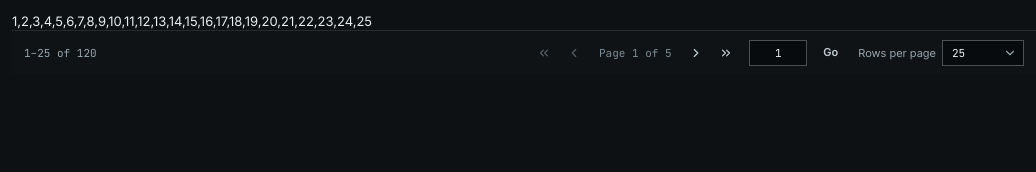
it: pagination footer › shows x–y of z, disables edges and steps through pages
Expected: the text "1–25 of 120" is shown, [24,44,97,62]
Expected: the text "Page 1 of 5" is shown, [599,46,672,60]
What coordinates should you click on to do the following:
click the button named "Next page"
I would click on:
 (696, 52)
Its box is [683,40,709,66].
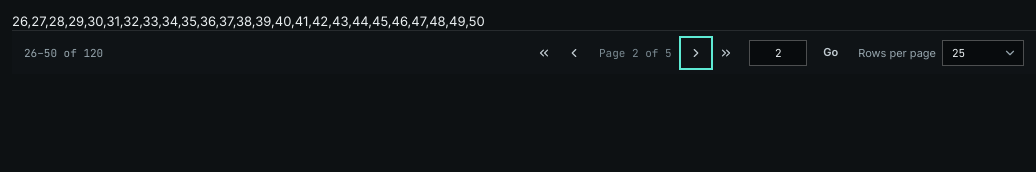
Result: the text "26–50 of 120" is shown at [24,44,103,62]
Result: the text "Page 2 of 5" is shown at [599,46,672,60]
What coordinates should you click on to do the following:
click the button named "Last page"
I would click on:
 (726, 52)
Its box is [713,40,739,66].
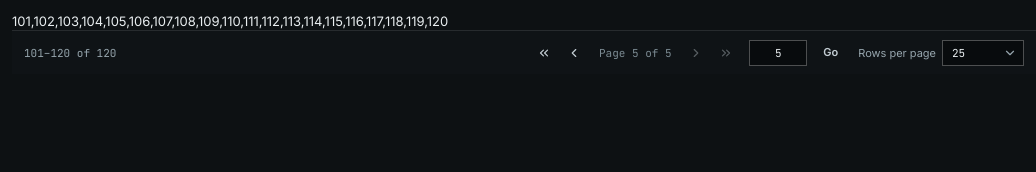
Result: the text "101–120 of 120" is shown at [24,44,116,62]
Result: the text "Page 5 of 5" is shown at [599,46,672,60]
Result: the button named "Next page" is disabled at [683,40,709,66]
What coordinates should you click on to do the following:
click the button named "First page"
I would click on:
 (544, 52)
Its box is [531,40,557,66].
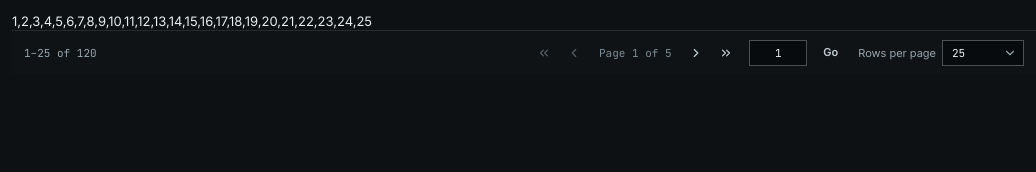
Result: the text "1–25 of 120" is shown at [24,44,97,62]
